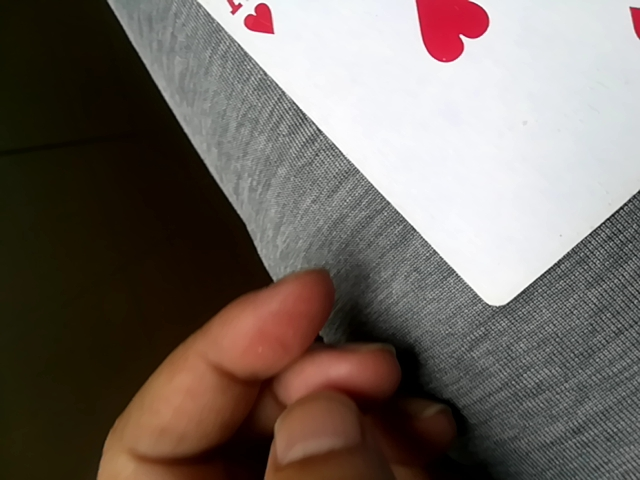hx a: (177, 0, 639, 310)
